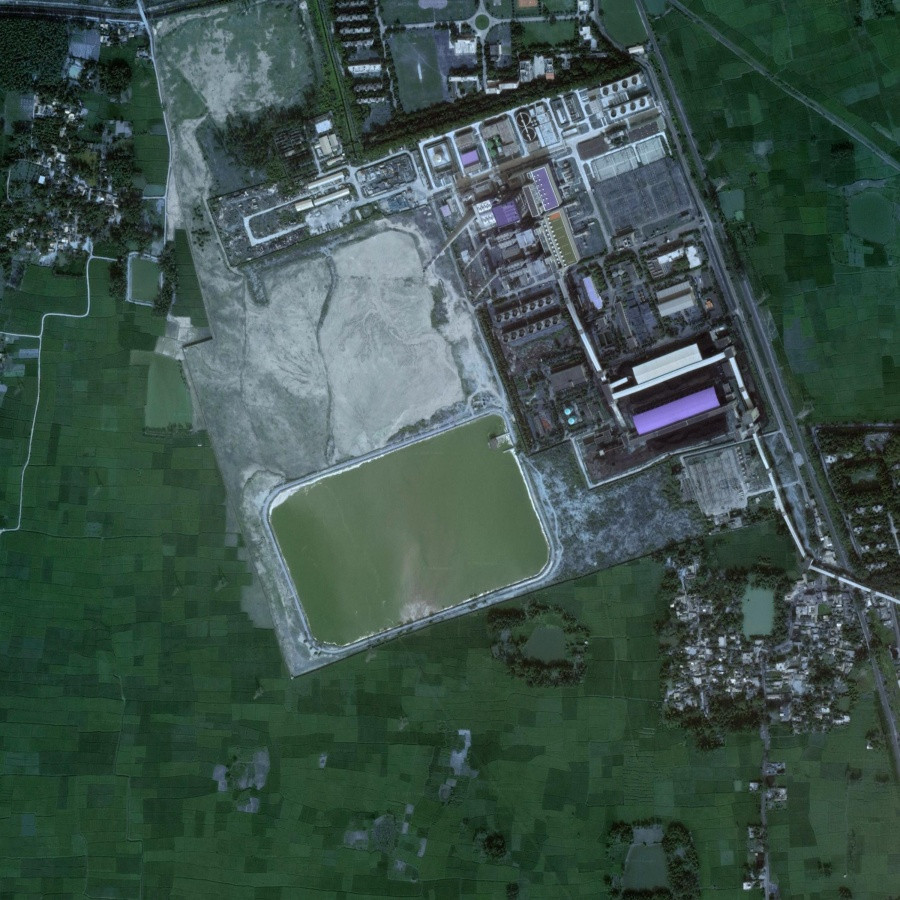PowerPlant: (204, 59, 820, 639)
